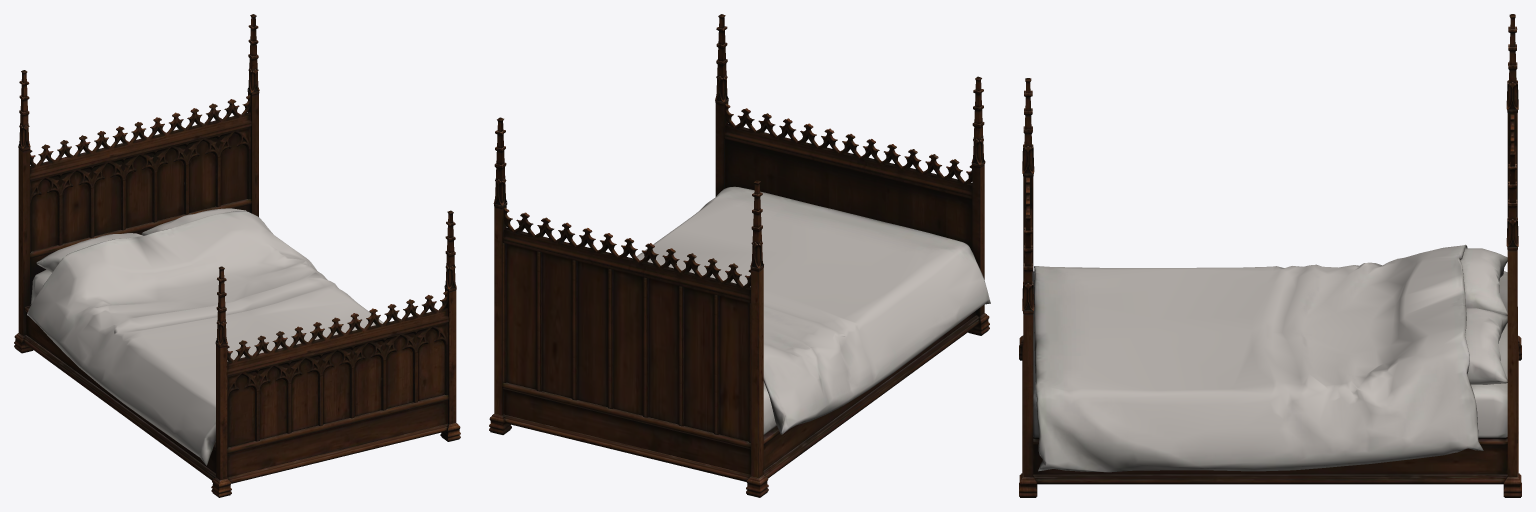
File: GothicBed_01.glb
3 renders of one model, left to right at view 1: azimuth 30°, elevation 25°; view 2: azimuth 150°, elevation 25°; view 3: azimuth 270°, elevation 25°, orthographic. The views are drawn at different scales.
Parts seen in each view (by area): view 1: GothicBed_01; view 2: GothicBed_01; view 3: GothicBed_01.
Boxes of the visible parts, bbox=[...] form: GothicBed_01: bbox=[14, 14, 460, 497]; GothicBed_01: bbox=[489, 14, 990, 497]; GothicBed_01: bbox=[1019, 14, 1521, 497].
Size of the model in its own units: 1.49 by 1.53 by 2.04.
1 material, 1 textured.
